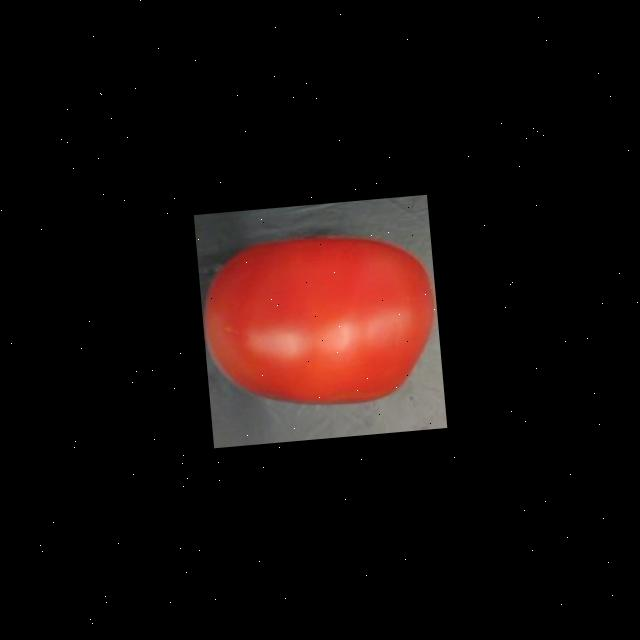tomato: (196, 217, 444, 418)
